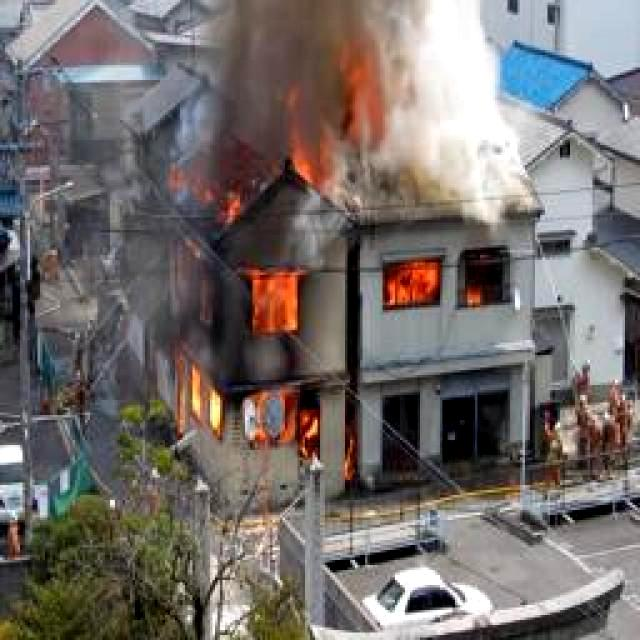helmet: (163, 172, 355, 506), (383, 264, 491, 313)
no_helmet: (206, 0, 539, 224)
